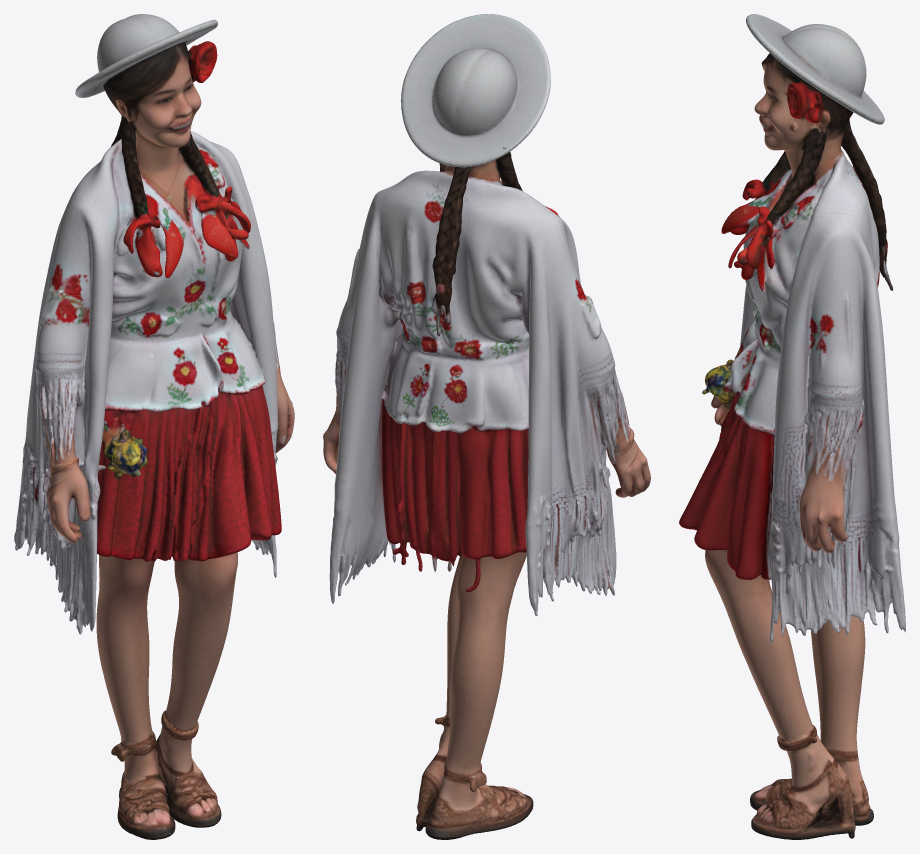
The model's file is chapaca.glb.
3 renders of one model, left to right at view 1: azimuth 30°, elevation 25°; view 2: azimuth 150°, elevation 25°; view 3: azimuth 270°, elevation 25°, orthographic. The views are drawn at different scales.
Visible parts, largest first — view 1: tripo_node_1502a827-6f1b-4407-afab-2731c590b3ca; view 2: tripo_node_1502a827-6f1b-4407-afab-2731c590b3ca; view 3: tripo_node_1502a827-6f1b-4407-afab-2731c590b3ca.
Boxes of the visible parts, left/top/right/bottom form: tripo_node_1502a827-6f1b-4407-afab-2731c590b3ca: left=14, top=14, right=294, bottom=839; tripo_node_1502a827-6f1b-4407-afab-2731c590b3ca: left=323, top=14, right=650, bottom=839; tripo_node_1502a827-6f1b-4407-afab-2731c590b3ca: left=679, top=14, right=905, bottom=839.
Size of the model in its own units: 0.3659 by 1 by 0.257.
1 material, 1 textured.
